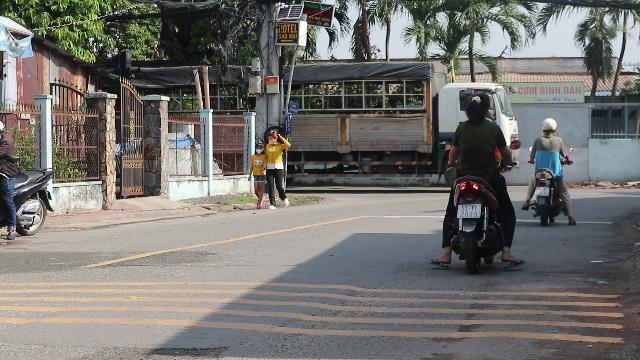licenseplate: (458, 204, 480, 218)
motorcyclist: (435, 92, 519, 270)
nohelmet: (464, 96, 490, 120)
